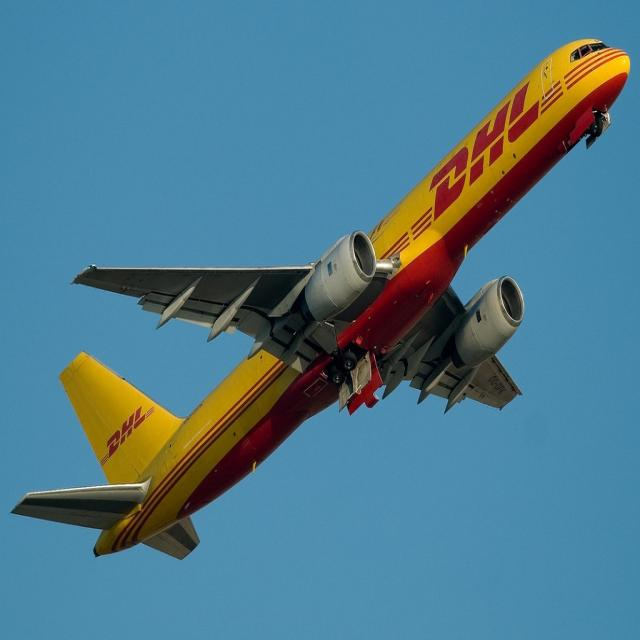dhl: (408, 76, 570, 246), (96, 399, 159, 472)
